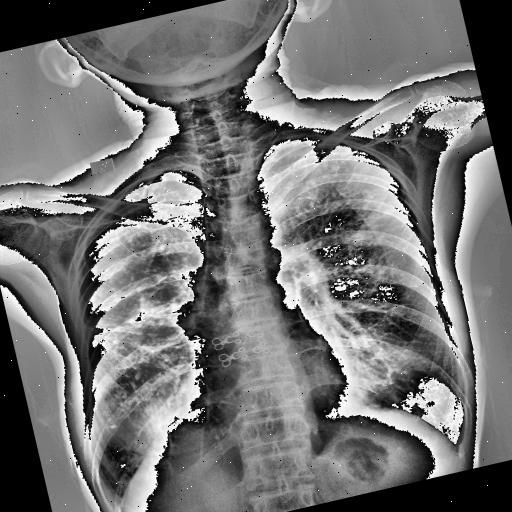13- Pulmonary fibrosis: (72, 292, 209, 460), (88, 291, 210, 382), (83, 310, 144, 348)
5- ILD: (41, 152, 255, 473), (266, 115, 473, 419), (272, 130, 430, 314)
6- Infiltration: (41, 152, 255, 473)
7- Lung Opacity: (128, 281, 190, 341), (130, 383, 180, 439)
